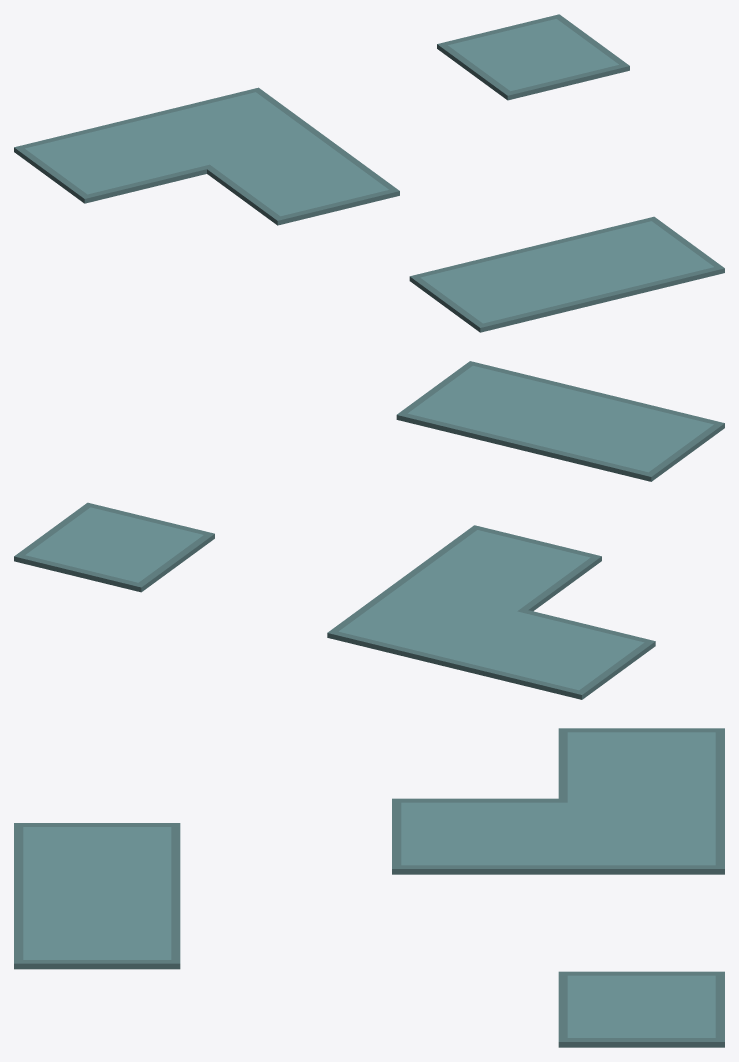
The model's file is Footpath_Pieces.fbx.
The picture shows the model from 3 angles, top to bottom: view 1: azimuth 30°, elevation 25°; view 2: azimuth 150°, elevation 25°; view 3: azimuth 270°, elevation 25°; orthographic projection. The views are drawn at different scales.
Parts seen in each view (by area): view 1: Fottpath_Corner, Footpath_Straight, Fottpath_Straight_Single; view 2: Fottpath_Corner, Footpath_Straight, Fottpath_Straight_Single; view 3: Fottpath_Corner, Footpath_Straight, Fottpath_Straight_Single.
Part boxes in pixels (x1,y1,x2,y2): Fottpath_Corner: (14,87,399,225); Footpath_Straight: (409,216,724,332); Fottpath_Straight_Single: (437,14,629,100); Fottpath_Corner: (327,525,655,699); Footpath_Straight: (396,361,724,481); Fottpath_Straight_Single: (14,502,214,592); Fottpath_Corner: (392,728,724,874); Footpath_Straight: (14,823,180,969); Fottpath_Straight_Single: (558,971,724,1047).
Size of the model in its own units: 50.15 by 0.4144 by 48.05.
Materials: 1 (1 with a texture image).
